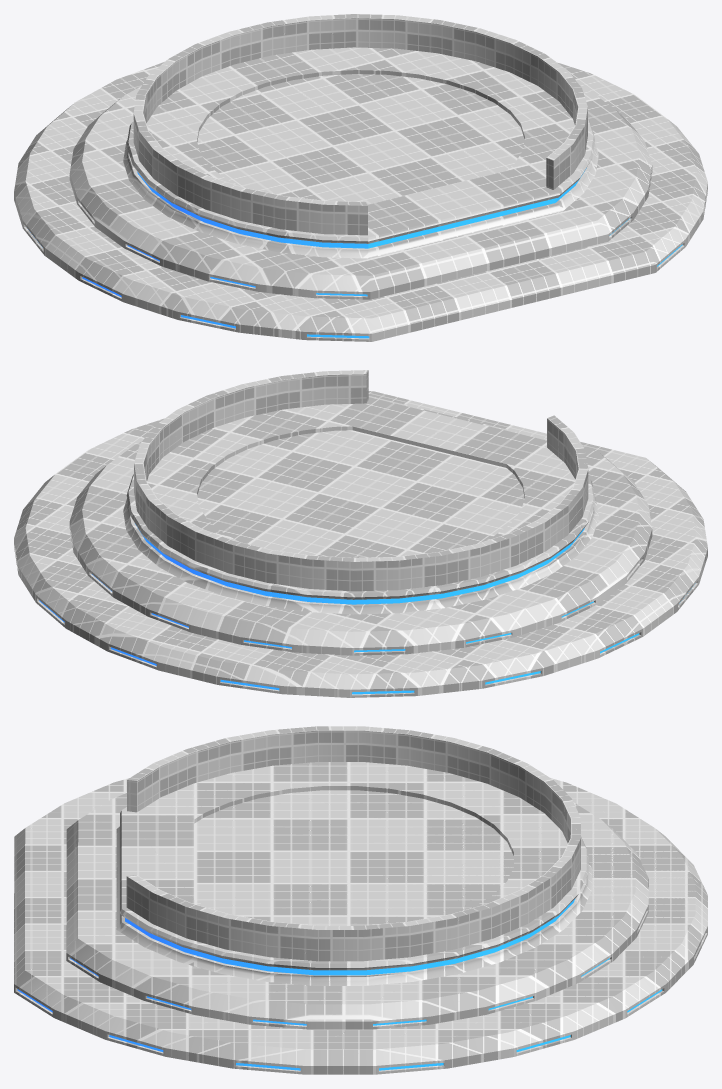
Rendered from Tuto_Room_1.fbx.
3 renders of one model, top to bottom at view 1: azimuth 30°, elevation 25°; view 2: azimuth 150°, elevation 25°; view 3: azimuth 270°, elevation 25°, orthographic. The views are drawn at different scales.
Parts seen in each view (by area): view 1: Cylinder.006; view 2: Cylinder.006; view 3: Cylinder.006.
Boxes of the visible parts, x1=… form: Cylinder.006: x1=14, y1=14, x2=707, y2=341; Cylinder.006: x1=14, y1=370, x2=707, y2=697; Cylinder.006: x1=14, y1=726, x2=707, y2=1074.
Size of the model in its own units: 2166 by 295 by 2043.
